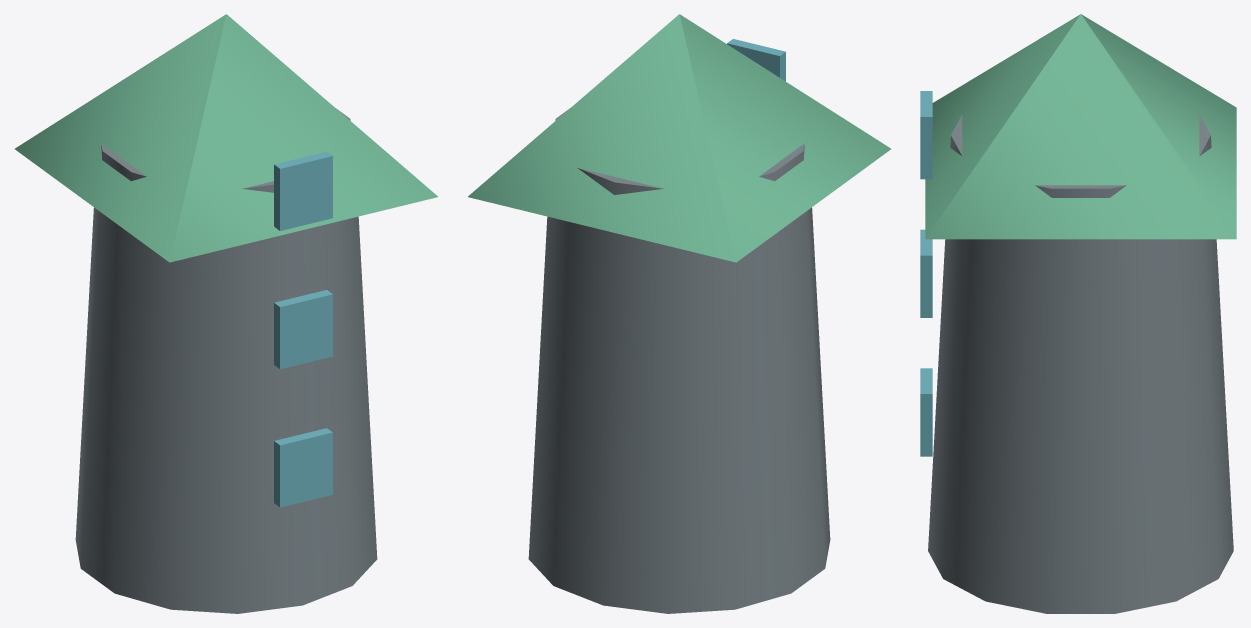
Rendered from grain_silo.glb.
The picture shows the model from 3 angles, left to right: view 1: azimuth 30°, elevation 25°; view 2: azimuth 150°, elevation 25°; view 3: azimuth 270°, elevation 25°; orthographic projection.
Visible parts, largest first — view 1: tower_body, tower_roof, window_2, window_4, window_6; view 2: tower_body, tower_roof, window_6; view 3: tower_body, tower_roof, window_2, window_6, window_4.
Part boxes in pixels (<box>): tower_body: <box>75,108,377,613</box>; tower_roof: <box>15,14,437,262</box>; window_2: <box>274,428,332,507</box>; window_4: <box>274,290,332,369</box>; window_6: <box>274,151,332,230</box>; tower_body: <box>528,108,830,613</box>; tower_roof: <box>468,14,890,262</box>; window_6: <box>727,39,785,81</box>; tower_body: <box>928,114,1233,613</box>; tower_roof: <box>925,14,1236,239</box>; window_2: <box>920,368,932,456</box>; window_6: <box>920,91,932,179</box>; window_4: <box>920,229,932,317</box>.
Size of what is drawn, in the model's own units: 4.07 by 7.75 by 4.14.
